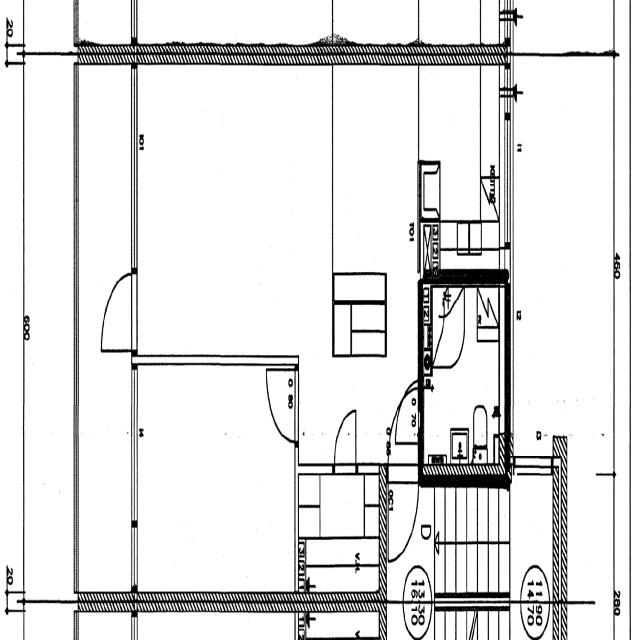door: (96, 259, 140, 357), (386, 472, 420, 564), (264, 358, 299, 446), (331, 402, 362, 476), (394, 381, 421, 448)
window: (123, 358, 146, 536), (501, 97, 515, 260), (356, 629, 379, 640)
zone: (2, 23, 81, 636), (133, 79, 302, 362), (131, 356, 297, 640), (324, 65, 484, 285), (417, 64, 506, 272), (421, 274, 505, 477), (510, 461, 560, 633)
